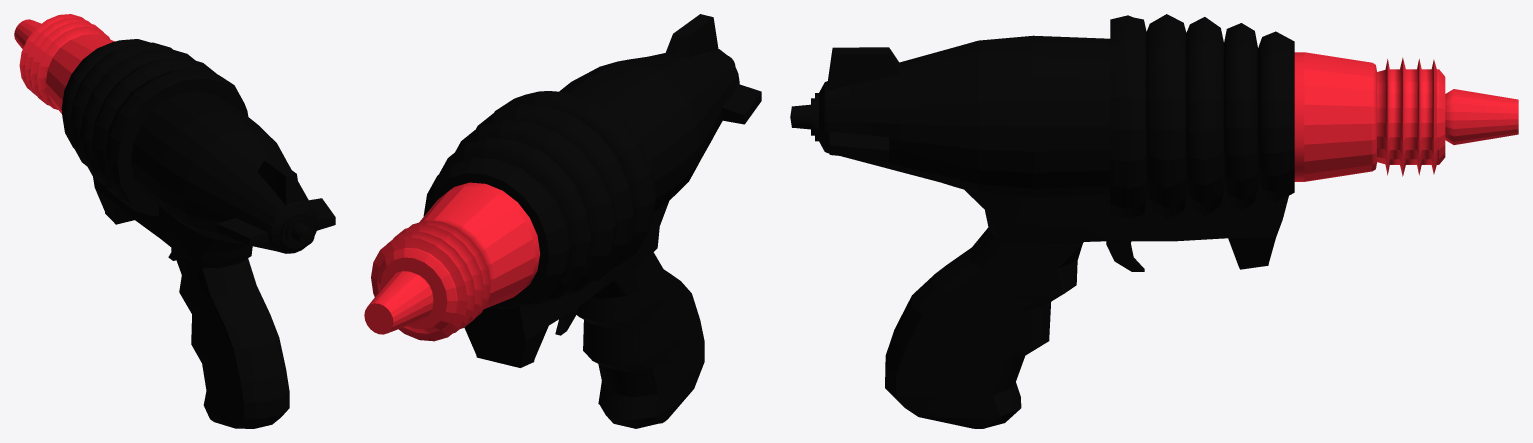
Rendered from maya2sketchfab.fbx.
3 renders of one model, left to right at view 1: azimuth 30°, elevation 25°; view 2: azimuth 150°, elevation 25°; view 3: azimuth 270°, elevation 25°, orthographic. The views are drawn at different scales.
Parts seen in each view (by area): view 1: Gun1; view 2: Gun1; view 3: Gun1.
Boxes of the visible parts, x1,y1,x2,y2 form: Gun1: (14,14,335,428); Gun1: (364,14,761,428); Gun1: (790,14,1518,428).
Bounding box in the file's own units: 2.59 × 5.34 × 8.93.
2 materials, 1 textured.
